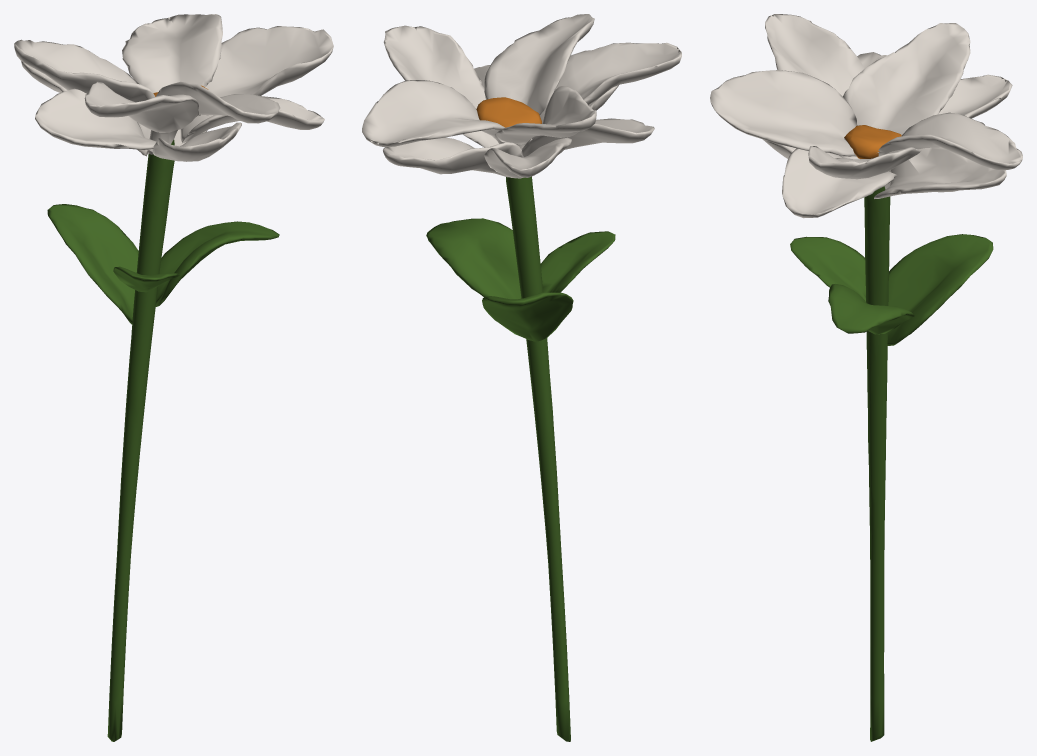
File: kwiatek_bialy.fbx
3 views of the same model, side by side, from view 1: azimuth 30°, elevation 25°; view 2: azimuth 150°, elevation 25°; view 3: azimuth 270°, elevation 25° (orthographic). The views are drawn at different scales.
Visible parts, largest first — view 1: Merged_PM3D_Sphere3D2_11; view 2: Merged_PM3D_Sphere3D2_11; view 3: Merged_PM3D_Sphere3D2_11.
Boxes of the visible parts, <box> form: Merged_PM3D_Sphere3D2_11: <box>14,14,333,741</box>; Merged_PM3D_Sphere3D2_11: <box>362,14,681,741</box>; Merged_PM3D_Sphere3D2_11: <box>710,14,1022,741</box>.
Bounding box in the file's own units: 111 × 262 × 107.
